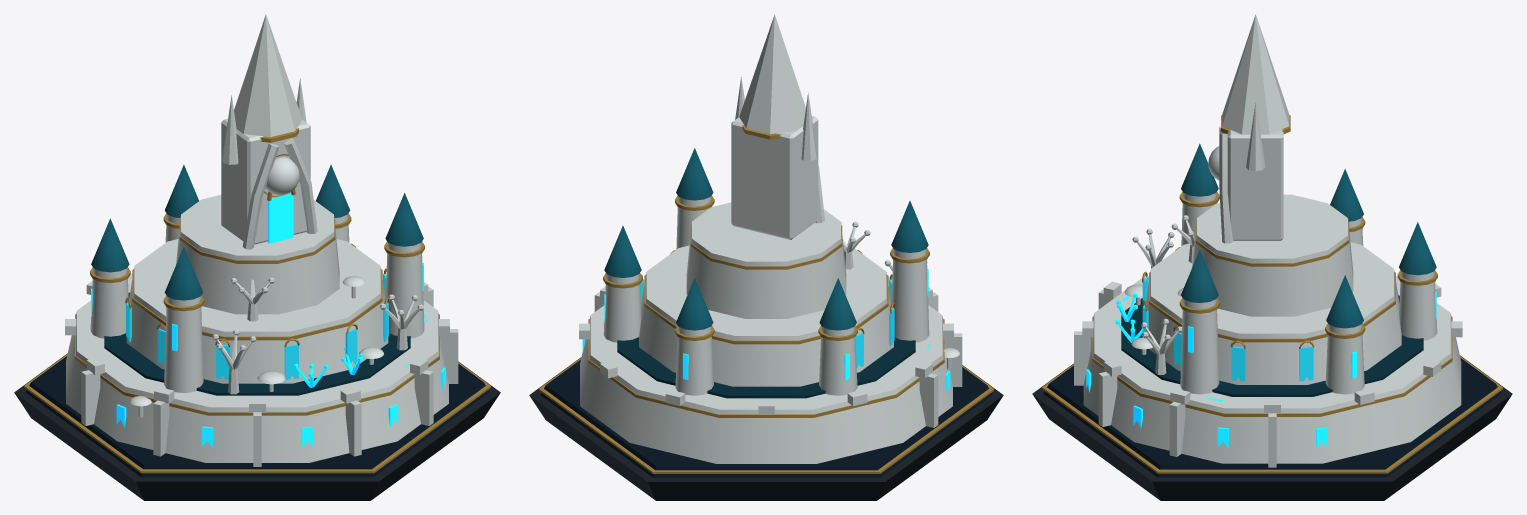
File: poseidon_coral_bulwark.glb
3 views of the same model, side by side, from view 1: azimuth 30°, elevation 25°; view 2: azimuth 150°, elevation 25°; view 3: azimuth 270°, elevation 25° (orthographic). The views are drawn at different scales.
Visible parts, largest first — view 1: poseidon_coral_bulwark; view 2: poseidon_coral_bulwark; view 3: poseidon_coral_bulwark.
Part boxes in pixels (<box>): poseidon_coral_bulwark: <box>14,14,500,500</box>; poseidon_coral_bulwark: <box>529,14,1003,500</box>; poseidon_coral_bulwark: <box>1032,14,1512,500</box>.
Size of the model in its own units: 1.49 by 1.6 by 1.72.
1 material, 1 textured.
